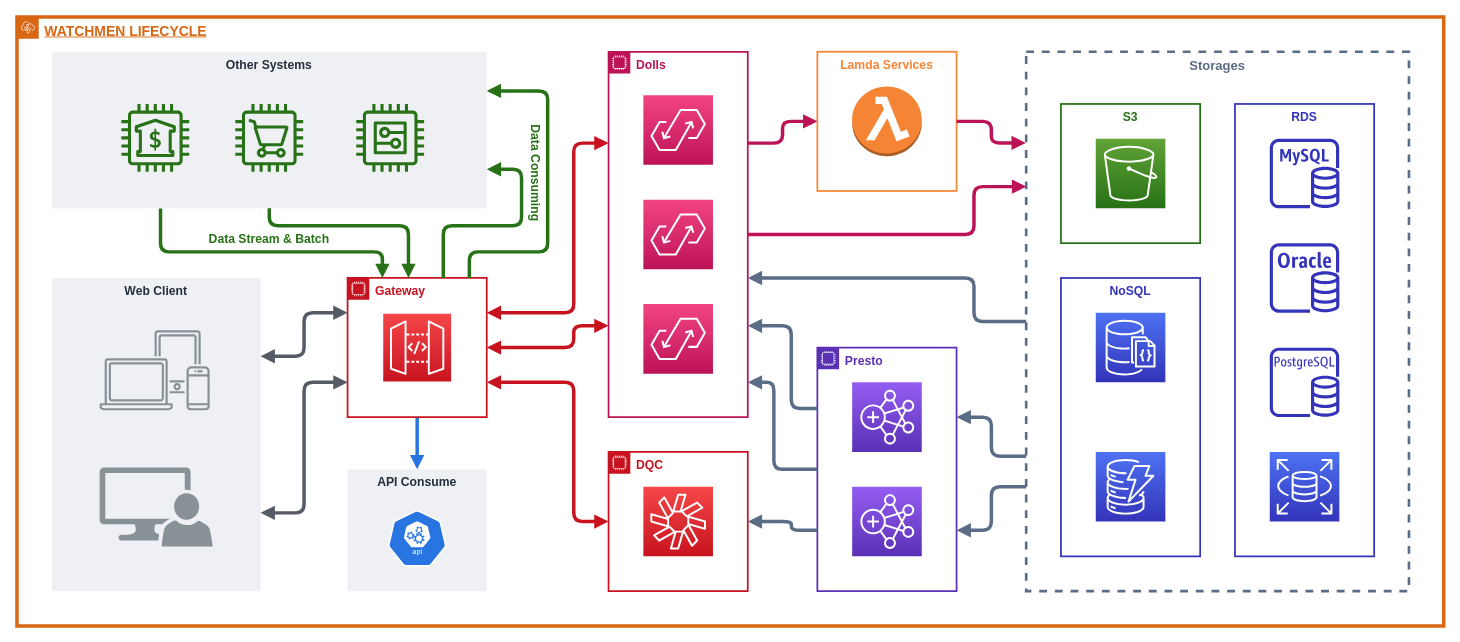
The diagram is 1460 pixels wide and 642 high, and some of its shapes have lost their labels. The centre of each missing label's shape, as x and y in pixels:
"Administrators" goes at point (155, 506).
"Business Users" goes at point (154, 370).
"Dynamo" goes at point (1130, 486).
"Mongo" goes at point (1130, 347).
"More Types" goes at point (1304, 486).
